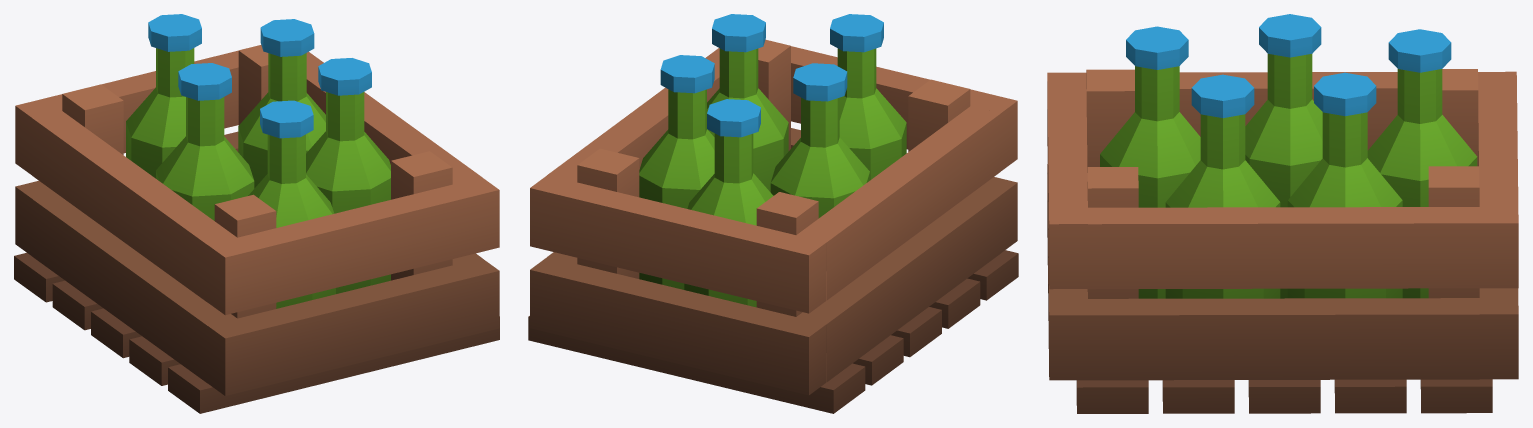
The model's file is box with bottles.fbx.
3 views of the same model, side by side, from view 1: azimuth 30°, elevation 25°; view 2: azimuth 150°, elevation 25°; view 3: azimuth 270°, elevation 25° (orthographic). The views are drawn at different scales.
Parts seen in each view (by area): view 1: box_with_bottles; view 2: box_with_bottles; view 3: box_with_bottles.
Part boxes in pixels (x1,y1,x2,y2): box_with_bottles: (14, 14, 499, 413); box_with_bottles: (528, 14, 1018, 413); box_with_bottles: (1047, 14, 1518, 413).
Bounding box in the file's own units: 214 × 166 × 256.
1 material, 1 textured.
